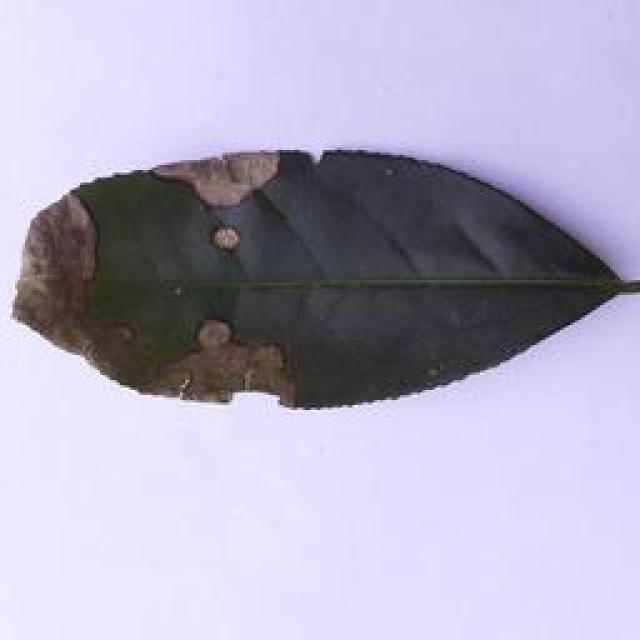Gray Blight: (12, 149, 635, 415)
